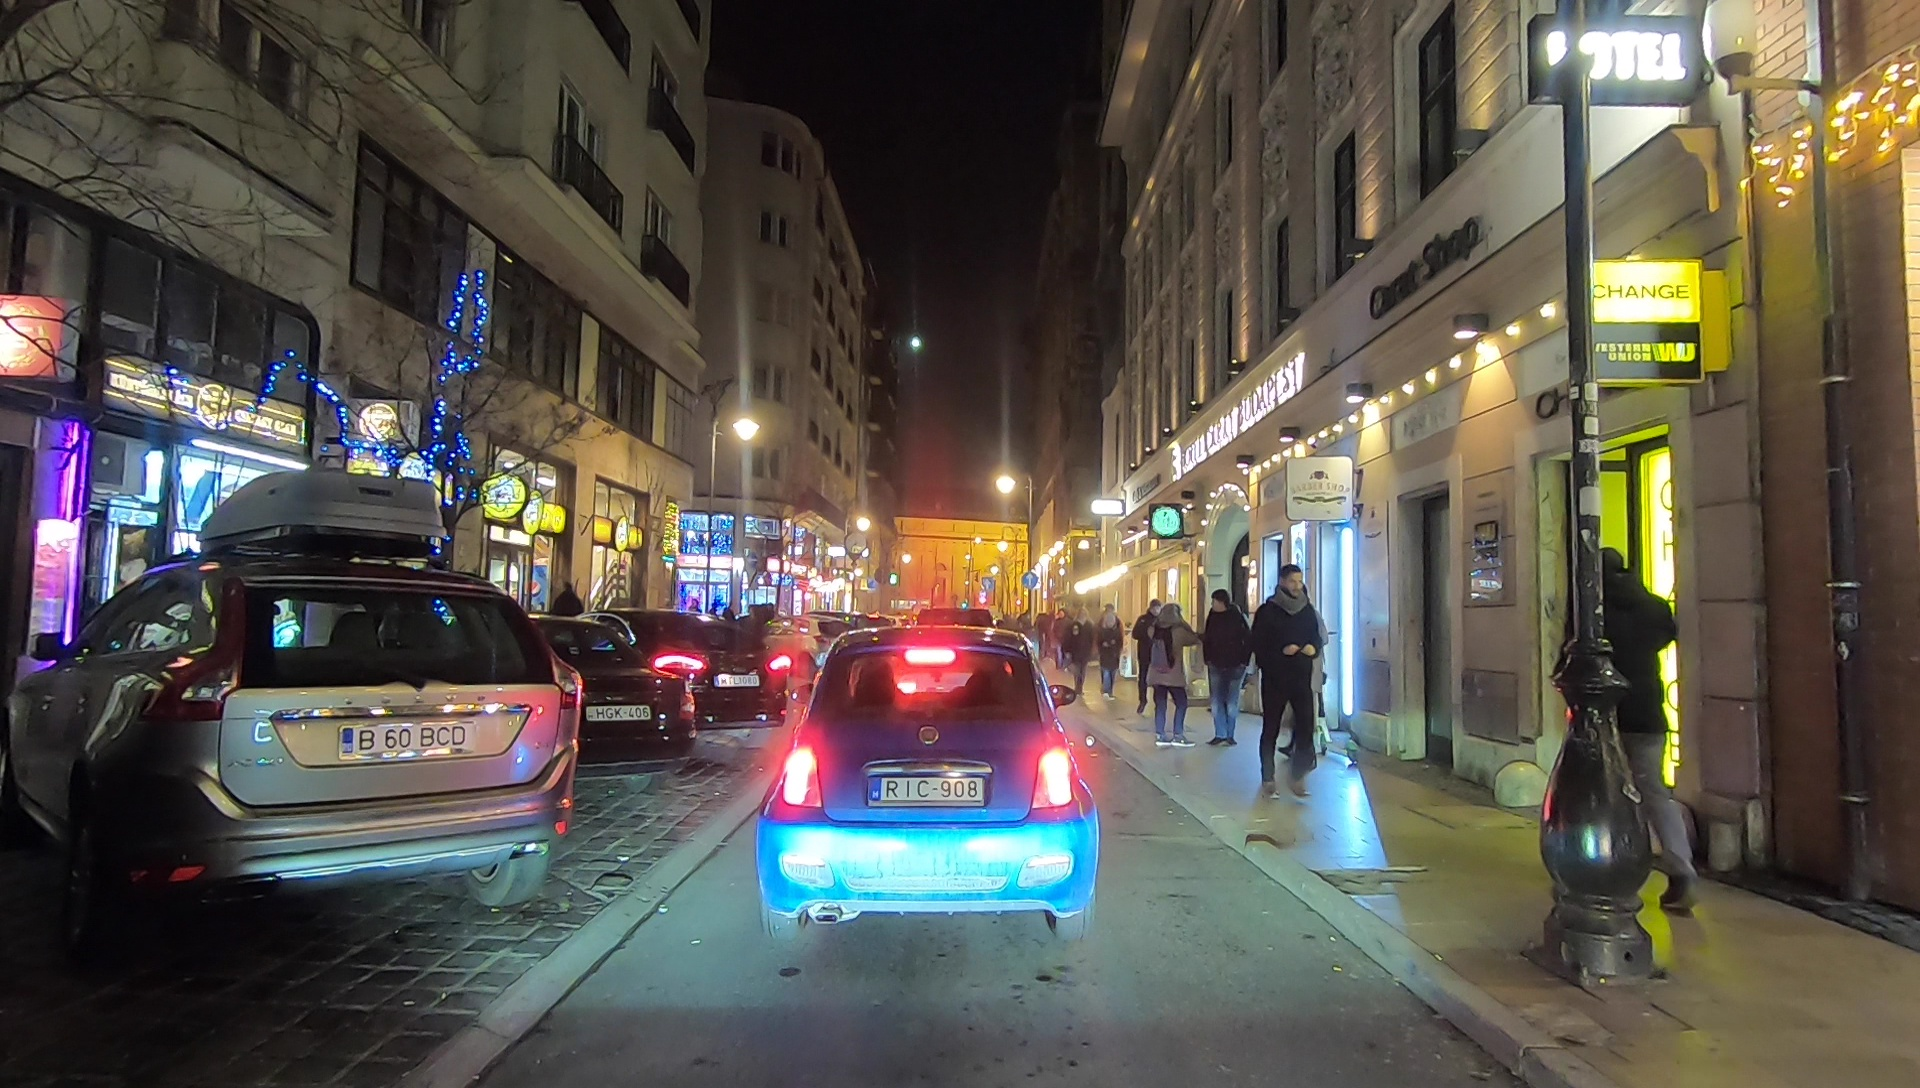person: (1582, 549, 1706, 919), (1258, 563, 1325, 804), (1203, 590, 1250, 740), (1153, 607, 1196, 746), (1136, 597, 1166, 719), (553, 583, 584, 663), (1065, 608, 1094, 692), (1096, 611, 1122, 702), (1052, 609, 1064, 662)
